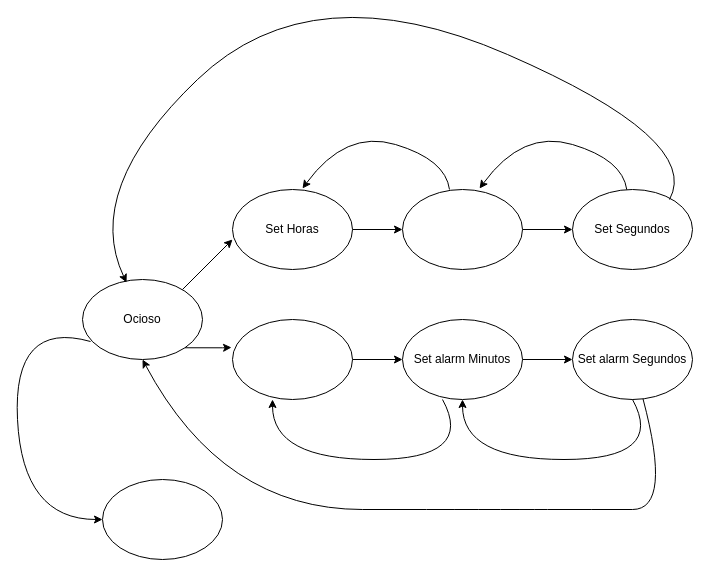
Some shapes in this 711 by 578 pixel diagram are drawn without their labels. The shapes that lost their labels are listed below. From the top down, each one's centre as x and y in pixels, then its label:
point 462,229: Set Minutos
point 292,359: Set alarm Horas
point 162,519: Tocar Alarm
